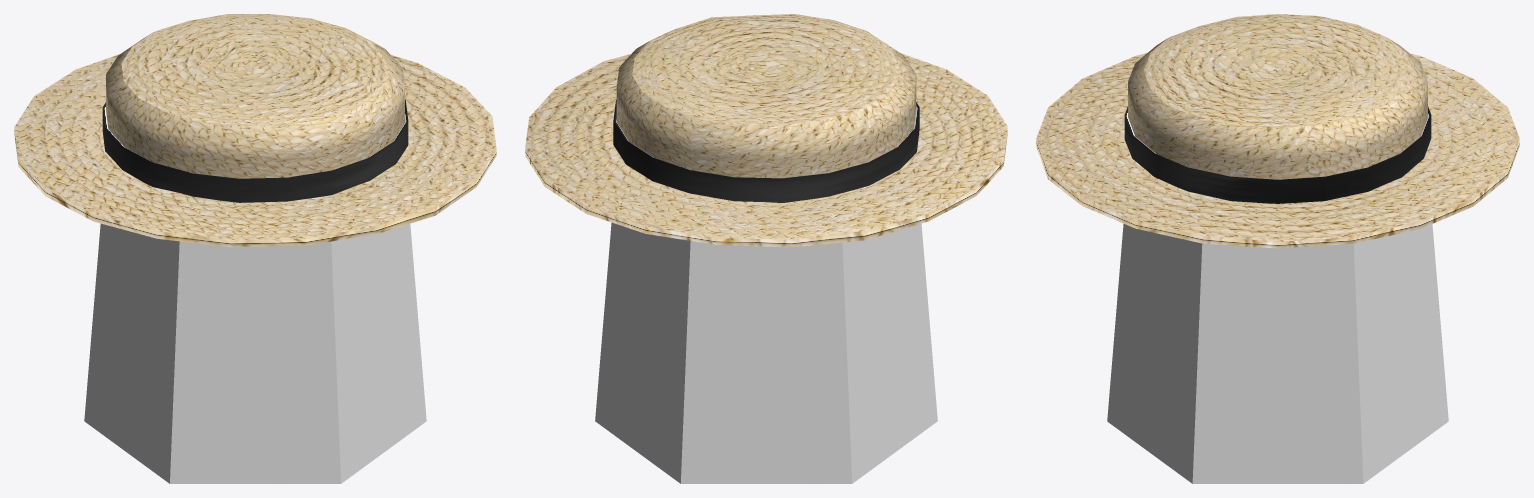
The model's file is farmer1.fbx.
3 views of the same model, side by side, from view 1: azimuth 30°, elevation 25°; view 2: azimuth 150°, elevation 25°; view 3: azimuth 270°, elevation 25° (orthographic).
Visible parts, largest first — view 1: strawhat1, strawhat1.003; view 2: strawhat1, strawhat1.003; view 3: strawhat1, strawhat1.003.
Part boxes in pixels (x1,y1,x2,y2): strawhat1: [14, 14, 496, 247]; strawhat1.003: [84, 223, 426, 483]; strawhat1: [525, 14, 1007, 247]; strawhat1.003: [595, 222, 937, 483]; strawhat1: [1036, 14, 1519, 248]; strawhat1.003: [1107, 224, 1448, 483].
Bounding box in the file's own units: 2.83 × 2.3 × 2.83.
